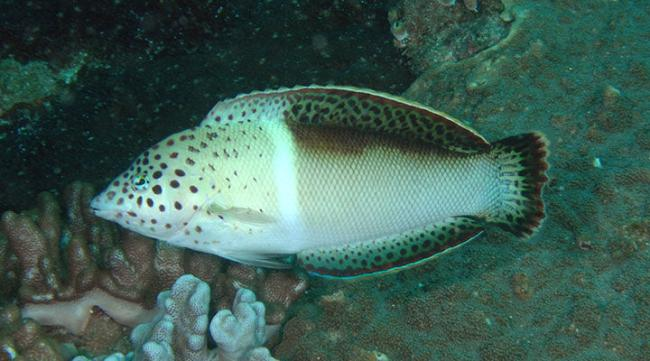fish: (90, 82, 553, 281)
